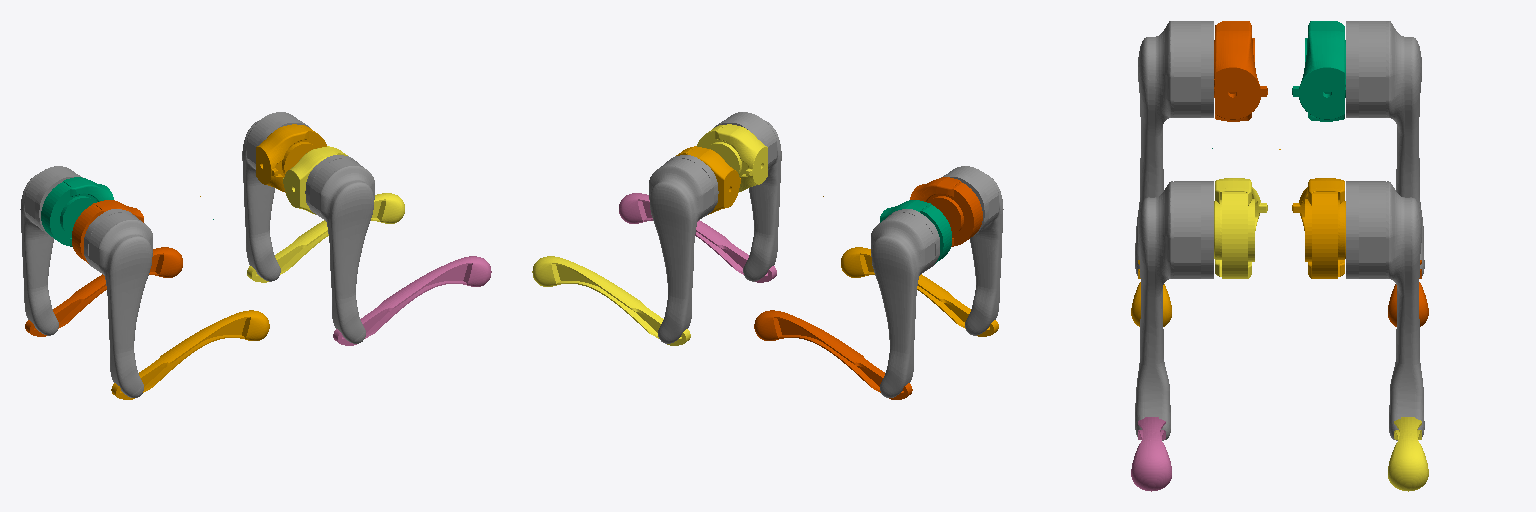
--- Facts derived from the render (not from the file) ---
Views: 3 orthographic renders of the robot side by side, from view 1: azimuth 30°, elevation 25°; view 2: azimuth 150°, elevation 25°; view 3: azimuth 270°, elevation 25°.
Model go1_description with 23 links and 22 joints (12 revolute, 10 fixed), rooted at base, posed joints at zero except 4 at the middle of their limits (FR_calf_joint = -1.81, FL_calf_joint = -1.81, RR_calf_joint = -1.81, RL_calf_joint = -1.81).
Links seen in each view (by area): view 1: FR_thigh, RR_thigh, RL_thigh, FL_thigh, FR_calf, RR_calf, RL_hip, FL_hip, FL_calf, RL_calf, FR_hip, RR_hip; view 2: FL_thigh, RL_thigh, RR_thigh, FR_thigh, FL_calf, RL_calf, RR_hip, FR_hip, FR_calf, RR_calf, FL_hip, RL_hip; view 3: FR_thigh, FL_thigh, RR_thigh, RL_thigh, FR_hip, FL_hip, RR_hip, RL_hip, FR_calf, FL_calf, RR_calf, RL_calf.
Boxes of the visible links, <box> form: FR_thigh: <box>305,155,374,343</box>; RR_thigh: <box>84,209,152,397</box>; RL_thigh: <box>20,166,82,335</box>; FL_thigh: <box>242,112,309,281</box>; FR_calf: <box>333,256,491,345</box>; RR_calf: <box>111,310,269,399</box>; RL_hip: <box>41,177,113,246</box>; FL_hip: <box>256,124,326,192</box>; FL_calf: <box>247,193,404,282</box>; RL_calf: <box>25,247,182,336</box>; FR_hip: <box>283,146,347,214</box>; RR_hip: <box>72,200,143,263</box>; FL_thigh: <box>649,155,718,343</box>; RL_thigh: <box>871,209,939,397</box>; RR_thigh: <box>941,166,1003,335</box>; FR_thigh: <box>714,112,781,281</box>; FL_calf: <box>532,256,690,345</box>; RL_calf: <box>754,310,912,399</box>; RR_hip: <box>910,177,982,246</box>; FR_hip: <box>697,124,767,192</box>; FR_calf: <box>619,193,776,282</box>; RR_calf: <box>841,247,998,336</box>; FL_hip: <box>676,146,740,214</box>; RL_hip: <box>880,200,951,263</box>; FR_thigh: <box>1135,181,1213,440</box>; FL_thigh: <box>1346,181,1424,440</box>; RR_thigh: <box>1135,21,1213,275</box>; RL_thigh: <box>1346,21,1424,275</box>; FR_hip: <box>1214,178,1267,278</box>; FL_hip: <box>1292,178,1345,278</box>; RR_hip: <box>1214,21,1267,121</box>; RL_hip: <box>1292,21,1345,121</box>; FR_calf: <box>1131,417,1171,491</box>; FL_calf: <box>1388,417,1428,491</box>; RR_calf: <box>1131,260,1171,326</box>; RL_calf: <box>1388,260,1428,326</box>.
Bounding box of the posed robot: 0.6536 × 0.294 × 0.2794 m (x, y, z).
Meshes: 5 distinct files referenced, 12 mesh visuals loaded (4 Collada DAE); not drawn: 1 (reference not matched to a file when rendering).

URDF robot description (go1_description):
<?xml version="1.0" ?>
<!-- =================================================================================== -->
<!-- |    This document was autogenerated by xacro from robot.xacro                    | -->
<!-- |    EDITING THIS FILE BY HAND IS NOT RECOMMENDED                                 | -->
<!-- =================================================================================== -->
<robot name="go1_description">
  <material name="black">
    <color rgba="0.0 0.0 0.0 1.0"/>
  </material>
  <material name="blue">
    <color rgba="0.0 0.0 0.8 1.0"/>
  </material>
  <material name="green">
    <color rgba="0.0 0.8 0.0 1.0"/>
  </material>
  <material name="grey">
    <color rgba="0.2 0.2 0.2 1.0"/>
  </material>
  <material name="silver">
    <color rgba="0.9137254901960784 0.9137254901960784 0.8470588235294118 1.0"/>
  </material>
  <material name="orange">
    <color rgba="1.0 0.4235294117647059 0.0392156862745098 1.0"/>
  </material>
  <material name="brown">
    <color rgba="0.8705882352941177 0.8117647058823529 0.7647058823529411 1.0"/>
  </material>
  <material name="red">
    <color rgba="0.8 0.0 0.0 1.0"/>
  </material>
  <material name="white">
    <color rgba="1.0 1.0 1.0 1.0"/>
  </material>
  <!-- ros_control plugin -->
  <gazebo>
    <plugin filename="libgazebo_ros_control.so" name="gazebo_ros_control">
      <robotNamespace>/go1_gazebo</robotNamespace>
      <robotSimType>gazebo_ros_control/DefaultRobotHWSim</robotSimType>
    </plugin>
  </gazebo>
  <!-- Show the trajectory of trunk center. -->
  <gazebo>
    <plugin filename="libLinkPlot3DPlugin.so" name="3dplot">
      <frequency>10</frequency>
      <plot>
        <link>base</link>
        <pose>0 0 0 0 0 0</pose>
        <material>Gazebo/Yellow</material>
      </plot>
    </plugin>
  </gazebo>
  <!-- Show the trajectory of foot. You can add another trajectory about another foot. -->
  <!-- <gazebo>
        <plugin name="3dplot" filename="libLinkPlot3DPlugin.so">
            <frequency>100</frequency>
            <plot>
                <link>FL_foot</link>
                <pose>0 0 0 0 0 0</pose>
                <material>Gazebo/Green</material>
            </plot>
        </plugin>
    </gazebo> -->
  <gazebo>
    <plugin filename="libgazebo_ros_force.so" name="gazebo_ros_force">
      <bodyName>trunk</bodyName>
      <topicName>/apply_force/trunk</topicName>
    </plugin>
  </gazebo>
  <gazebo reference="imu_link">
    <gravity>true</gravity>
    <sensor name="imu_sensor" type="imu">
      <always_on>true</always_on>
      <update_rate>1000</update_rate>
      <visualize>true</visualize>
      <topic>__default_topic__</topic>
      <plugin filename="libgazebo_ros_imu_sensor.so" name="imu_plugin">
        <topicName>trunk_imu</topicName>
        <bodyName>imu_link</bodyName>
        <updateRateHZ>1000.0</updateRateHZ>
        <gaussianNoise>0.0</gaussianNoise>
        <xyzOffset>0 0 0</xyzOffset>
        <rpyOffset>0 0 0</rpyOffset>
        <frameName>imu_link</frameName>
      </plugin>
      <pose>0 0 0 0 0 0</pose>
    </sensor>
  </gazebo>
  <!-- Depth camera -->
  <!-- <gazebo>
        <plugin name="camera_plugin" filename="libgazebo_ros_openni_kinect.so">
            <baseline>0.025</baseline>
            <always_on>true</always_on>
            <updateRate>0.0</updateRate>
            <cameraName>unitree_camera_left</cameraName>
            <frameName>depthCamera_link_left</frameName>
            <imageTopicName>rgb/imageRaw_left</imageTopicName>
            <depthImageTopicName>depth/imageRaw_left</depthImageTopicName>
            <pointCloudTopicName>depth/points_left</pointCloudTopicName>
            <cameraInfoTopicName>rgb/cameraInfo_left</cameraInfoTopicName>              
            <depthImageCameraInfoTopicName>depth/cameraInfo_left</depthImageCameraInfoTopicName>            
            <pointCloudCutoff>0.1</pointCloudCutoff>                
            <pointCloudCutoffMax>1.5</pointCloudCutoffMax>                
            <distortionK1>0.0</distortionK1>
            <distortionK2>0.0</distortionK2>
            <distortionK3>0.0</distortionK3>
            <distortionT1>0.0</distortionT1>
            <distortionT2>0.0</distortionT2>
            <CxPrime>0.0</CxPrime>
            <Cx>0.0045</Cx>
            <Cy>0.0039</Cy>
            <focalLength>0.004</focalLength>
            <hackBaseline>0.0</hackBaseline>
        </plugin>
    </gazebo> -->
  <!-- <gazebo reference="depthCamera_link_left">
        <sensor name="unitree_camera_left" type="depth_camera">
            <update_rate>16</update_rate>
            <always_on>true</always_on>
            <visualize>true</visualize>
            <camera>
                <horizontal_fov>2.094</horizontal_fov>
                <image>
                    <width>928</width>
                    <height>800</height>
                    <format>R8G8B8</format>
                </image>
                <depth_camera></depth_camera>
                <clip>
                    <near>0.1</near>
                    <far>100</far>
                </clip>
            </camera>
            <plugin name="camera_plugin" filename="libgazebo_ros_openni_kinect.so">
                <baseline>0.025</baseline>
                <always_on>true</always_on>
                <updateRate>0.0</updateRate>
                <cameraName>unitree_camera_left</cameraName>
                <frameName>depthCamera_link_left</frameName>
                <imageTopicName>rgb/imageRaw_left</imageTopicName>
                <depthImageTopicName>depth/imageRaw_left</depthImageTopicName>
                <pointCloudTopicName>depth/points_left</pointCloudTopicName>
                <cameraInfoTopicName>rgb/cameraInfo_left</cameraInfoTopicName>              
                <depthImageCameraInfoTopicName>depth/cameraInfo_left</depthImageCameraInfoTopicName>            
                <pointCloudCutoff>0.1</pointCloudCutoff>                
                <pointCloudCutoffMax>1.5</pointCloudCutoffMax>                
                <distortionK1>0.0</distortionK1>
                <distortionK2>0.0</distortionK2>
                <distortionK3>0.0</distortionK3>
                <distortionT1>0.0</distortionT1>
                <distortionT2>0.0</distortionT2>
                <CxPrime>0.0</CxPrime>
                <Cx>0.0045</Cx>
                <Cy>0.0039</Cy>
                <focalLength>0.004</focalLength>
                <hackBaseline>0.0</hackBaseline>
            </plugin>
        </sensor>
    </gazebo> -->
  <gazebo reference="depthCamera_link_left">
    <sensor name="camera_link_camera" type="depth">
      <update_rate>20</update_rate>
      <camera>
        <horizontal_fov>1.047198</horizontal_fov>
        <image>
          <width>640</width>
          <height>480</height>
          <format>R8G8B8</format>
        </image>
        <clip>
          <near>0.05</near>
          <far>3</far>
        </clip>
      </camera>
      <plugin filename="libgazebo_ros_openni_kinect.so" name="camera_link_controller">
        <baseline>0.2</baseline>
        <alwaysOn>true</alwaysOn>
        <updateRate>1.0</updateRate>
        <cameraName>camera_link_ir</cameraName>
        <imageTopicName>/camera_link/color/image_raw</imageTopicName>
        <cameraInfoTopicName>/camera_link/color/camera_info</cameraInfoTopicName>
        <depthImageTopicName>/camera_link/depth/image_raw</depthImageTopicName>
        <depthImageInfoTopicName>/camera_link/depth/camera_info</depthImageInfoTopicName>
        <pointCloudTopicName>/camera_link/depth/points</pointCloudTopicName>
        <frameName>depthCamera_link_left</frameName>
        <pointCloudCutoff>0.5</pointCloudCutoff>
        <pointCloudCutoffMax>3.0</pointCloudCutoffMax>
        <distortionK1>0.00000001</distortionK1>
        <distortionK2>0.00000001</distortionK2>
        <distortionK3>0.00000001</distortionK3>
        <distortionT1>0.00000001</distortionT1>
        <distortionT2>0.00000001</distortionT2>
        <CxPrime>0</CxPrime>
        <Cx>0</Cx>
        <Cy>0</Cy>
        <focalLength>0</focalLength>
        <hackBaseline>0</hackBaseline>
      </plugin>
    </sensor>
  </gazebo>
  <!-- Foot contacts. -->
  <gazebo reference="FR_calf">
    <sensor name="FR_foot_contact" type="contact">
      <update_rate>100</update_rate>
      <plugin filename="libunitreeFootContactPlugin.so" name="contactPlugin"/>
      <contact>
        <collision>FR_calf_fixed_joint_lump__FR_foot_collision_1</collision>
      </contact>
    </sensor>
  </gazebo>
  <gazebo reference="FL_calf">
    <sensor name="FL_foot_contact" type="contact">
      <update_rate>100</update_rate>
      <plugin filename="libunitreeFootContactPlugin.so" name="contactPlugin"/>
      <contact>
        <collision>FL_calf_fixed_joint_lump__FL_foot_collision_1</collision>
      </contact>
    </sensor>
  </gazebo>
  <gazebo reference="RR_calf">
    <sensor name="RR_foot_contact" type="contact">
      <update_rate>100</update_rate>
      <plugin filename="libunitreeFootContactPlugin.so" name="contactPlugin"/>
      <contact>
        <collision>RR_calf_fixed_joint_lump__RR_foot_collision_1</collision>
      </contact>
    </sensor>
  </gazebo>
  <gazebo reference="RL_calf">
    <sensor name="RL_foot_contact" type="contact">
      <update_rate>100</update_rate>
      <plugin filename="libunitreeFootContactPlugin.so" name="contactPlugin"/>
      <contact>
        <collision>RL_calf_fixed_joint_lump__RL_foot_collision_1</collision>
      </contact>
    </sensor>
  </gazebo>
  <!-- Visualization of Foot contacts. -->
  <gazebo reference="FR_foot">
    <visual>
      <plugin filename="libunitreeDrawForcePlugin.so" name="drawForcePlugin">
        <topicName>FR_foot_contact</topicName>
      </plugin>
    </visual>
  </gazebo>
  <gazebo reference="FL_foot">
    <visual>
      <plugin filename="libunitreeDrawForcePlugin.so" name="drawForcePlugin">
        <topicName>FL_foot_contact</topicName>
      </plugin>
    </visual>
  </gazebo>
  <gazebo reference="RR_foot">
    <visual>
      <plugin filename="libunitreeDrawForcePlugin.so" name="drawForcePlugin">
        <topicName>RR_foot_contact</topicName>
      </plugin>
    </visual>
  </gazebo>
  <gazebo reference="RL_foot">
    <visual>
      <plugin filename="libunitreeDrawForcePlugin.so" name="drawForcePlugin">
        <topicName>RL_foot_contact</topicName>
      </plugin>
    </visual>
  </gazebo>
  <gazebo reference="base">
    <material>Gazebo/Green</material>
    <turnGravityOff>false</turnGravityOff>
  </gazebo>
  <gazebo reference="trunk">
    <mu1>0.2</mu1>
    <mu2>0.2</mu2>
    <kp value="1000000.0"/>
    <kd value="1.0"/>
  </gazebo>
  <gazebo reference="stick_link">
    <mu1>0.2</mu1>
    <mu2>0.2</mu2>
    <material>Gazebo/White</material>
  </gazebo>
  <gazebo reference="imu_link">
    <mu1>0.2</mu1>
    <mu2>0.2</mu2>
    <material>Gazebo/Red</material>
  </gazebo>
  <!-- FL leg -->
  <gazebo reference="FL_hip">
    <mu1>0.2</mu1>
    <mu2>0.2</mu2>
    <material>Gazebo/DarkGrey</material>
  </gazebo>
  <gazebo reference="FL_thigh">
    <mu1>0.2</mu1>
    <mu2>0.2</mu2>
    <self_collide>1</self_collide>
    <material>Gazebo/DarkGrey</material>
    <kp value="1000000.0"/>
    <kd value="1.0"/>
  </gazebo>
  <gazebo reference="FL_calf">
    <mu1>0.2</mu1>
    <mu2>0.2</mu2>
    <self_collide>1</self_collide>
  </gazebo>
  <gazebo reference="FL_foot">
    <mu1>0.6</mu1>
    <mu2>0.6</mu2>
    <self_collide>1</self_collide>
    <material>Gazebo/DarkGrey</material>
    <kp value="1000000.0"/>
    <kd value="1.0"/>
  </gazebo>
  <!-- FR leg -->
  <gazebo reference="FR_hip">
    <mu1>0.2</mu1>
    <mu2>0.2</mu2>
    <material>Gazebo/DarkGrey</material>
  </gazebo>
  <gazebo reference="FR_thigh">
    <mu1>0.2</mu1>
    <mu2>0.2</mu2>
    <self_collide>1</self_collide>
    <material>Gazebo/DarkGrey</material>
    <kp value="1000000.0"/>
    <kd value="1.0"/>
  </gazebo>
  <gazebo reference="FR_calf">
    <mu1>0.2</mu1>
    <mu2>0.2</mu2>
    <self_collide>1</self_collide>
  </gazebo>
  <gazebo reference="FR_foot">
    <mu1>0.6</mu1>
    <mu2>0.6</mu2>
    <self_collide>1</self_collide>
    <material>Gazebo/DarkGrey</material>
    <kp value="1000000.0"/>
    <kd value="1.0"/>
  </gazebo>
  <!-- RL leg -->
  <gazebo reference="RL_hip">
    <mu1>0.2</mu1>
    <mu2>0.2</mu2>
    <material>Gazebo/DarkGrey</material>
  </gazebo>
  <gazebo reference="RL_thigh">
    <mu1>0.2</mu1>
    <mu2>0.2</mu2>
    <self_collide>1</self_collide>
    <material>Gazebo/DarkGrey</material>
    <kp value="1000000.0"/>
    <kd value="1.0"/>
  </gazebo>
  <gazebo reference="RL_calf">
    <mu1>0.2</mu1>
    <mu2>0.2</mu2>
    <self_collide>1</self_collide>
  </gazebo>
  <gazebo reference="RL_foot">
    <mu1>0.6</mu1>
    <mu2>0.6</mu2>
    <self_collide>1</self_collide>
    <material>Gazebo/DarkGrey</material>
    <kp value="1000000.0"/>
    <kd value="1.0"/>
  </gazebo>
  <!-- RR leg -->
  <gazebo reference="RR_hip">
    <mu1>0.2</mu1>
    <mu2>0.2</mu2>
    <material>Gazebo/DarkGrey</material>
  </gazebo>
  <gazebo reference="RR_thigh">
    <mu1>0.2</mu1>
    <mu2>0.2</mu2>
    <self_collide>1</self_collide>
    <material>Gazebo/DarkGrey</material>
    <kp value="1000000.0"/>
    <kd value="1.0"/>
  </gazebo>
  <gazebo reference="RR_calf">
    <mu1>0.2</mu1>
    <mu2>0.2</mu2>
    <self_collide>1</self_collide>
  </gazebo>
  <gazebo reference="RR_foot">
    <mu1>0.6</mu1>
    <mu2>0.6</mu2>
    <self_collide>1</self_collide>
    <material>Gazebo/DarkGrey</material>
    <kp value="1000000.0"/>
    <kd value="1.0"/>
  </gazebo>
  <!-- <xacro:include filename="$(find go1_gazebo)/launch/stairs.urdf.xacro"/> -->
  <!-- <xacro:stairs stairs="15" xpos="0" ypos="0" zpos="0" /> -->
  <!-- Debug mode will hung up the robot, use "true" or "false" to switch it. -->
  <!-- <xacro:if value="$(arg DEBUG)">
    <link name="world"/>
    <joint name="base_static_joint" type="fixed">
      <origin rpy="0 0 0" xyz="0 0 0"/>
      <parent link="world"/>
      <child link="base"/>
    </joint>
  </xacro:if>  -->
  <link name="base">
    <visual>
      <origin rpy="0 0 0" xyz="0 0 0"/>
      <geometry>
        <box size="0.001 0.001 0.001"/>
      </geometry>
    </visual>
  </link>
  <joint name="floating_base" type="fixed">
    <origin rpy="0 0 0" xyz="0 0 0"/>
    <parent link="base"/>
    <child link="trunk"/>
  </joint>
  <link name="trunk">
    <visual>
      <origin rpy="0 0 0" xyz="0 0 0"/>
      <geometry>
        <mesh filename="../meshes/trunk.dae" scale="1 1 1"/>
      </geometry>
      <!-- <material name="orange"/> -->
    </visual>
    <collision>
      <origin rpy="0 0 0" xyz="0 0 0"/>
      <geometry>
        <box size="0.3762 0.0935 0.114"/>
      </geometry>
    </collision>
    <inertial>
      <origin rpy="0 0 0" xyz="0.011611 0.004437 0.000108"/>
      <mass value="4.8"/>
      <inertia ixx="0.016130741919" ixy="0.000593180607" ixz="7.324662e-06" iyy="0.036507810812" iyz="2.0969537e-05" izz="0.044693872053"/>
    </inertial>
  </link>
  <joint name="imu_joint" type="fixed">
    <parent link="trunk"/>
    <child link="imu_link"/>
    <origin rpy="0 0 0" xyz="-0.01592 -0.06659 -0.00617"/>
  </joint>
  <link name="imu_link">
    <inertial>
      <mass value="0.001"/>
      <origin rpy="0 0 0" xyz="0 0 0"/>
      <inertia ixx="0.0001" ixy="0" ixz="0" iyy="0.0001" iyz="0" izz="0.0001"/>
    </inertial>
    <visual>
      <origin rpy="0 0 0" xyz="0 0 0"/>
      <geometry>
        <box size="0.001 0.001 0.001"/>
      </geometry>
      <!-- <material name="red"/> -->
    </visual>
    <collision>
      <origin rpy="0 0 0" xyz="0 0 0"/>
      <geometry>
        <box size=".001 .001 .001"/>
      </geometry>
    </collision>
  </link>
  <joint name="FR_hip_joint" type="revolute">
    <origin rpy="0 0 0" xyz="0.1881 -0.04675 0"/>
    <parent link="trunk"/>
    <child link="FR_hip"/>
    <axis xyz="1 0 0"/>
    <dynamics damping="0" friction="0"/>
    <limit effort="33.5" lower="-0.8028514559173915" upper="0.8028514559173915" velocity="21"/>
  </joint>
  <link name="FR_hip">
    <visual>
      <origin rpy="3.141592653589793 0 0" xyz="0 0 0"/>
      <geometry>
        <mesh filename="../meshes/hip.dae" scale="1 1 1"/>
      </geometry>
      <!-- <material name="orange"/> -->
    </visual>
    <!-- <collision>
      <origin rpy="1.5707963267948966 0 0" xyz="0 0 0"/>
      <geometry>
        <cylinder length="0.04" radius="0.046"/>
      </geometry>
    </collision> -->
    <inertial>
      <origin rpy="0 0 0" xyz="-0.00541 0.00074 6e-06"/>
      <mass value="0.510299"/>
      <inertia ixx="0.00030528937" ixy="7.788013e-06" ixz="2.2016e-07" iyy="0.000590894859" iyz="1.7175e-08" izz="0.000396594572"/>
    </inertial>
  </link>
  <joint name="FR_hip_fixed" type="fixed">
    <origin rpy="0 0 0" xyz="0 -0.08 0"/>
    <parent link="FR_hip"/>
    <child link="FR_thigh_shoulder"/>
  </joint>
  <!-- this link is only for collision -->
  <link name="FR_thigh_shoulder">
    <!-- <collision>
      <origin rpy="1.5707963267948966 0 0" xyz="0 0 0"/>
      <geometry>
        <cylinder length="0.032" radius="0.041"/>
      </geometry>
    </collision> -->
  </link>
  <joint name="FR_thigh_joint" type="revolute">
    <origin rpy="0 0 0" xyz="0 -0.08 0"/>
    <parent link="FR_hip"/>
    <child link="FR_thigh"/>
    <axis xyz="0 1 0"/>
    <dynamics damping="0" friction="0"/>
    <limit effort="33.5" lower="-1.0471975511965976" upper="4.1887902047863905" velocity="21"/>
  </joint>
  <link name="FR_thigh">
    <visual>
      <origin rpy="0 0 0" xyz="0 0 0"/>
      <geometry>
        <mesh filename="../meshes/thigh_mirror.dae" scale="1 1 1"/>
      </geometry>
      <!-- <material name="orange"/> -->
    </visual>
    <collision>
      <origin rpy="0 1.5707963267948966 0" xyz="0 0 -0.1065"/>
      <geometry>
        <box size="0.213 0.0245 0.034"/>
      </geometry>
    </collision>
    <inertial>
      <origin rpy="0 0 0" xyz="-0.003468 0.018947 -0.032736"/>
      <mass value="0.898919"/>
      <inertia ixx="0.005395867678" ixy="-1.02809e-07" ixz="0.000337529085" iyy="0.005142451046" iyz="5.816563e-06" izz="0.00102478732"/>
    </inertial>
  </link>
  <joint name="FR_calf_joint" type="revolute">
    <origin rpy="0 0 0" xyz="0 0 -0.213"/>
    <parent link="FR_thigh"/>
    <child link="FR_calf"/>
    <axis xyz="0 1 0"/>
    <dynamics damping="0" friction="0"/>
    <limit effort="33.5" lower="-2.6965336943312392" upper="-0.9162978572970231" velocity="21"/>
  </joint>
  <link name="FR_calf">
    <visual>
      <origin rpy="0 0 0" xyz="0 0 0"/>
      <geometry>
        <mesh filename="../meshes/calf.dae" scale="1 1 1"/>
      </geometry>
      <!-- <material name="orange"/> -->
    </visual>
    <collision>
      <origin rpy="0 1.5707963267948966 0" xyz="0 0 -0.1065"/>
      <geometry>
        <box size="0.213 0.016 0.016"/>
      </geometry>
    </collision>
    <inertial>
      <origin rpy="0 0 0" xyz="0.006286 0.001307 -0.122269"/>
      <mass value="0.158015"/>
      <inertia ixx="0.003607648222" ixy="1.494971e-06" ixz="-0.000132778525" iyy="0.003626771492" iyz="-2.8638535e-05" izz="3.5148003e-05"/>
    </inertial>
  </link>
  <joint name="FR_foot_fixed" type="fixed">
    <origin rpy="0 0 0" xyz="0 0 -0.213"/>
    <parent link="FR_calf"/>
    <child link="FR_foot"/>
  </joint>
  <link name="FR_foot">
    <visual>
      <origin rpy="0 0 0" xyz="0 0 0"/>
      <geometry>
        <sphere radius="0.01"/>
      </geometry>
      <!-- <material name="orange"/> -->
    </visual>
    <collision>
      <origin rpy="0 0 0" xyz="0 0 0"/>
      <geometry>
        <sphere radius="0.02"/>
      </geometry>
    </collision>
    <inertial>
      <mass value="0.06"/>
      <inertia ixx="9.600000000000001e-06" ixy="0.0" ixz="0.0" iyy="9.600000000000001e-06" iyz="0.0" izz="9.600000000000001e-06"/>
    </inertial>
  </link>
  <transmission name="FR_hip_tran">
    <type>transmission_interface/SimpleTransmission</type>
    <joint name="FR_hip_joint">
      <hardwareInterface>hardware_interface/EffortJointInterface</hardwareInterface>
    </joint>
    <actuator name="FR_hip_motor">
      <hardwareInterface>hardware_interface/EffortJointInterface</hardwareInterface>
      <mechanicalReduction>1</mechanicalReduction>
    </actuator>
  </transmission>
  <transmission name="FR_thigh_tran">
    <type>transmission_interface/SimpleTransmission</type>
    <joint name="FR_thigh_joint">
      <hardwareInterface>hardware_interface/EffortJointInterface</hardwareInterface>
    </joint>
    <actuator name="FR_thigh_motor">
      <hardwareInterface>hardware_interface/EffortJointInterface</hardwareInterface>
      <mechanicalReduction>1</mechanicalReduction>
    </actuator>
  </transmission>
  <transmission name="FR_calf_tran">
    <type>transmission_interface/SimpleTransmission</type>
    <joint name="FR_calf_joint">
      <hardwareInterface>hardware_interface/EffortJointInterface</hardwareInterface>
    </joint>
    <actuator name="FR_calf_motor">
      <hardwareInterface>hardware_interface/EffortJointInterface</hardwareInterface>
      <mechanicalReduction>1</mechanicalReduction>
    </actuator>
  </transmission>
  <joint name="FL_hip_joint" type="revolute">
    <origin rpy="0 0 0" xyz="0.1881 0.04675 0"/>
    <parent link="trunk"/>
    <child link="FL_hip"/>
    <axis xyz="1 0 0"/>
    <dynamics damping="0" friction="0"/>
    <limit effort="33.5" lower="-0.8028514559173915" upper="0.8028514559173915" velocity="21"/>
  </joint>
  <link name="FL_hip">
    <visual>
      <origin rpy="0 0 0" xyz="0 0 0"/>
      <geometry>
        <mesh filename="../meshes/hip.dae" scale="1 1 1"/>
      </geometry>
      <!-- <material name="orange"/> -->
    </visual>
    <!-- <collision>
      <origin rpy="1.5707963267948966 0 0" xyz="0 0 0"/>
      <geometry>
        <cylinder length="0.04" radius="0.046"/>
      </geometry>
    </collision> -->
    <inertial>
      <origin rpy="0 0 0" xyz="-0.00541 -0.00074 6e-06"/>
      <mass value="0.510299"/>
      <inertia ixx="0.00030528937" ixy="-7.788013e-06" ixz="2.2016e-07" iyy="0.000590894859" iyz="-1.7175e-08" izz="0.000396594572"/>
    </inertial>
  </link>
  <joint name="FL_hip_fixed" type="fixed">
    <origin rpy="0 0 0" xyz="0 0.08 0"/>
    <parent link="FL_hip"/>
    <child link="FL_thigh_shoulder"/>
  </joint>
  <!-- this link is only for collision -->
  <link name="FL_thigh_shoulder">
    <!-- <collision>
      <origin rpy="1.5707963267948966 0 0" xyz="0 0 0"/>
      <geometry>
        <cylinder length="0.032" radius="0.041"/>
      </geometry>
    </collision> -->
  </link>
  <joint name="FL_thigh_joint" type="revolute">
    <origin rpy="0 0 0" xyz="0 0.08 0"/>
    <parent link="FL_hip"/>
    <child link="FL_thigh"/>
    <axis xyz="0 1 0"/>
    <dynamics damping="0" friction="0"/>
    <limit effort="33.5" lower="-1.0471975511965976" upper="4.1887902047863905" velocity="21"/>
  </joint>
  <link name="FL_thigh">
    <visual>
      <origin rpy="0 0 0" xyz="0 0 0"/>
      <geometry>
        <mesh filename="../meshes/thigh.dae" scale="1 1 1"/>
      </geometry>
      <!-- <material name="orange"/> -->
    </visual>
    <collision>
      <origin rpy="0 1.5707963267948966 0" xyz="0 0 -0.1065"/>
      <geometry>
        <box size="0.213 0.0245 0.034"/>
      </geometry>
    </collision>
    <inertial>
      <origin rpy="0 0 0" xyz="-0.003468 -0.018947 -0.032736"/>
      <mass value="0.898919"/>
      <inertia ixx="0.005395867678" ixy="1.02809e-07" ixz="0.000337529085" iyy="0.005142451046" iyz="-5.816563e-06" izz="0.00102478732"/>
    </inertial>
  </link>
  <joint name="FL_calf_joint" type="revolute">
    <origin rpy="0 0 0" xyz="0 0 -0.213"/>
    <parent link="FL_thigh"/>
    <child link="FL_calf"/>
    <axis xyz="0 1 0"/>
    <dynamics damping="0" friction="0"/>
    <limit effort="33.5" lower="-2.6965336943312392" upper="-0.9162978572970231" velocity="21"/>
  </joint>
  <link name="FL_calf">
    <visual>
      <origin rpy="0 0 0" xyz="0 0 0"/>
      <geometry>
        <mesh filename="../meshes/calf.dae" scale="1 1 1"/>
      </geometry>
      <!-- <material name="orange"/> -->
    </visual>
    <collision>
      <origin rpy="0 1.5707963267948966 0" xyz="0 0 -0.1065"/>
      <geometry>
        <box size="0.213 0.016 0.016"/>
      </geometry>
    </collision>
    <inertial>
      <origin rpy="0 0 0" xyz="0.006286 0.001307 -0.122269"/>
      <mass value="0.158015"/>
      <inertia ixx="0.003607648222" ixy="1.494971e-06" ixz="-0.000132778525" iyy="0.003626771492" iyz="-2.8638535e-05" izz="3.5148003e-05"/>
    </inertial>
  </link>
  <joint name="FL_foot_fixed" type="fixed">
    <origin rpy="0 0 0" xyz="0 0 -0.213"/>
    <parent link="FL_calf"/>
    <child link="FL_foot"/>
  </joint>
  <link name="FL_foot">
    <visual>
      <origin rpy="0 0 0" xyz="0 0 0"/>
      <geometry>
        <sphere radius="0.01"/>
      </geometry>
      <!-- <material name="orange"/> -->
    </visual>
    <collision>
      <origin rpy="0 0 0" xyz="0 0 0"/>
      <geometry>
        <sphere radius="0.02"/>
      </geometry>
    </collision>
    <inertial>
      <mass value="0.06"/>
      <inertia ixx="9.600000000000001e-06" ixy="0.0" ixz="0.0" iyy="9.600000000000001e-06" iyz="0.0" izz="9.600000000000001e-06"/>
    </inertial>
  </link>
  <transmission name="FL_hip_tran">
    <type>transmission_interface/SimpleTransmission</type>
    <joint name="FL_hip_joint">
      <hardwareInterface>hardware_interface/EffortJointInterface</hardwareInterface>
    </joint>
    <actuator name="FL_hip_motor">
      <hardwareInterface>hardware_interface/EffortJointInterface</hardwareInterface>
      <mechanicalReduction>1</mechanicalReduction>
    </actuator>
  </transmission>
  <transmission name="FL_thigh_tran">
    <type>transmission_interface/SimpleTransmission</type>
    <joint name="FL_thigh_joint">
      <hardwareInterface>hardware_interface/EffortJointInterface</hardwareInterface>
    </joint>
    <actuator name="FL_thigh_motor">
      <hardwareInterface>hardware_interface/EffortJointInterface</hardwareInterface>
      <mechanicalReduction>1</mechanicalReduction>
    </actuator>
  </transmission>
  <transmission name="FL_calf_tran">
    <type>transmission_interface/SimpleTransmission</type>
    <joint name="FL_calf_joint">
      <hardwareInterface>hardware_interface/EffortJointInterface</hardwareInterface>
    </joint>
    <actuator name="FL_calf_motor">
      <hardwareInterface>hardware_interface/EffortJointInterface</hardwareInterface>
      <mechanicalReduction>1</mechanicalReduction>
    </actuator>
  </transmission>
  <joint name="RR_hip_joint" type="revolute">
    <origin rpy="0 0 0" xyz="-0.1881 -0.04675 0"/>
    <parent link="trunk"/>
    <child link="RR_hip"/>
    <axis xyz="1 0 0"/>
    <dynamics damping="0" friction="0"/>
    <limit effort="33.5" lower="-0.8028514559173915" upper="0.8028514559173915" velocity="21"/>
  </joint>
  <link name="RR_hip">
    <visual>
      <origin rpy="3.141592653589793 3.141592653589793 0" xyz="0 0 0"/>
      <geometry>
        <mesh filename="../meshes/hip.dae" scale="1 1 1"/>
      </geometry>
      <!-- <material name="orange"/> -->
    </visual>
    <!-- <collision>
      <origin rpy="1.5707963267948966 0 0" xyz="0 0 0"/>
      <geometry>
        <cylinder length="0.04" radius="0.046"/>
      </geometry>
    </collision> -->
    <inertial>
      <origin rpy="0 0 0" xyz="0.00541 0.00074 6e-06"/>
      <mass value="0.510299"/>
      <inertia ixx="0.00030528937" ixy="-7.788013e-06" ixz="-2.2016e-07" iyy="0.000590894859" iyz="1.7175e-08" izz="0.000396594572"/>
    </inertial>
  </link>
  <joint name="RR_hip_fixed" type="fixed">
    <origin rpy="0 0 0" xyz="0 -0.08 0"/>
    <parent link="RR_hip"/>
    <child link="RR_thigh_shoulder"/>
  </joint>
  <!-- this link is only for collision -->
  <link name="RR_thigh_shoulder">
    <!-- <collision>
      <origin rpy="1.5707963267948966 0 0" xyz="0 0 0"/>
      <geometry>
        <cylinder length="0.032" radius="0.041"/>
      </geometry>
    </collision> -->
  </link>
  <joint name="RR_thigh_joint" type="revolute">
    <origin rpy="0 0 0" xyz="0 -0.08 0"/>
    <parent link="RR_hip"/>
    <child link="RR_thigh"/>
    <axis xyz="0 1 0"/>
    <dynamics damping="0" friction="0"/>
    <limit effort="33.5" lower="-1.0471975511965976" upper="4.1887902047863905" velocity="21"/>
  </joint>
  <link name="RR_thigh">
    <visual>
      <origin rpy="0 0 0" xyz="0 0 0"/>
      <geometry>
        <mesh filename="../meshes/thigh_mirror.dae" scale="1 1 1"/>
      </geometry>
      <!-- <material name="orange"/> -->
    </visual>
    <collision>
      <origin rpy="0 1.5707963267948966 0" xyz="0 0 -0.1065"/>
      <geometry>
        <box size="0.213 0.0245 0.034"/>
      </geometry>
    </collision>
    <inertial>
      <origin rpy="0 0 0" xyz="-0.003468 0.018947 -0.032736"/>
      <mass value="0.898919"/>
      <inertia ixx="0.005395867678" ixy="-1.02809e-07" ixz="0.000337529085" iyy="0.005142451046" iyz="5.816563e-06" izz="0.00102478732"/>
    </inertial>
  </link>
  <joint name="RR_calf_joint" type="revolute">
    <origin rpy="0 0 0" xyz="0 0 -0.213"/>
    <parent link="RR_thigh"/>
    <child link="RR_calf"/>
    <axis xyz="0 1 0"/>
    <dynamics damping="0" friction="0"/>
    <limit effort="33.5" lower="-2.6965336943312392" upper="-0.9162978572970231" velocity="21"/>
  </joint>
  <link name="RR_calf">
    <visual>
      <origin rpy="0 0 0" xyz="0 0 0"/>
      <geometry>
        <mesh filename="../meshes/calf.dae" scale="1 1 1"/>
      </geometry>
      <!-- <material name="orange"/> -->
    </visual>
    <collision>
      <origin rpy="0 1.5707963267948966 0" xyz="0 0 -0.1065"/>
      <geometry>
        <box size="0.213 0.016 0.016"/>
      </geometry>
    </collision>
    <inertial>
      <origin rpy="0 0 0" xyz="0.006286 0.001307 -0.122269"/>
      <mass value="0.158015"/>
      <inertia ixx="0.003607648222" ixy="1.494971e-06" ixz="-0.000132778525" iyy="0.003626771492" iyz="-2.8638535e-05" izz="3.5148003e-05"/>
    </inertial>
  </link>
  <joint name="RR_foot_fixed" type="fixed">
    <origin rpy="0 0 0" xyz="0 0 -0.213"/>
    <parent link="RR_calf"/>
    <child link="RR_foot"/>
  </joint>
  <link name="RR_foot">
    <visual>
      <origin rpy="0 0 0" xyz="0 0 0"/>
      <geometry>
        <sphere radius="0.01"/>
      </geometry>
      <!-- <material name="orange"/> -->
    </visual>
    <collision>
      <origin rpy="0 0 0" xyz="0 0 0"/>
      <geometry>
        <sphere radius="0.02"/>
      </geometry>
    </collision>
    <inertial>
      <mass value="0.06"/>
      <inertia ixx="9.600000000000001e-06" ixy="0.0" ixz="0.0" iyy="9.600000000000001e-06" iyz="0.0" izz="9.600000000000001e-06"/>
    </inertial>
  </link>
  <transmission name="RR_hip_tran">
    <type>transmission_interface/SimpleTransmission</type>
    <joint name="RR_hip_joint">
      <hardwareInterface>hardware_interface/EffortJointInterface</hardwareInterface>
    </joint>
    <actuator name="RR_hip_motor">
      <hardwareInterface>hardware_interface/EffortJointInterface</hardwareInterface>
      <mechanicalReduction>1</mechanicalReduction>
    </actuator>
  </transmission>
  <transmission name="RR_thigh_tran">
    <type>transmission_interface/SimpleTransmission</type>
    <joint name="RR_thigh_joint">
      <hardwareInterface>hardware_interface/EffortJointInterface</hardwareInterface>
    </joint>
    <actuator name="RR_thigh_motor">
      <hardwareInterface>hardware_interface/EffortJointInterface</hardwareInterface>
      <mechanicalReduction>1</mechanicalReduction>
    </actuator>
  </transmission>
  <transmission name="RR_calf_tran">
    <type>transmission_interface/SimpleTransmission</type>
    <joint name="RR_calf_joint">
      <hardwareInterface>hardware_interface/EffortJointInterface</hardwareInterface>
    </joint>
    <actuator name="RR_calf_motor">
      <hardwareInterface>hardware_interface/EffortJointInterface</hardwareInterface>
      <mechanicalReduction>1</mechanicalReduction>
    </actuator>
  </transmission>
  <joint name="RL_hip_joint" type="revolute">
    <origin rpy="0 0 0" xyz="-0.1881 0.04675 0"/>
    <parent link="trunk"/>
    <child link="RL_hip"/>
    <axis xyz="1 0 0"/>
    <dynamics damping="0" friction="0"/>
    <limit effort="33.5" lower="-0.8028514559173915" upper="0.8028514559173915" velocity="21"/>
  </joint>
  <link name="RL_hip">
    <visual>
      <origin rpy="0 3.141592653589793 0" xyz="0 0 0"/>
      <geometry>
        <mesh filename="../meshes/hip.dae" scale="1 1 1"/>
      </geometry>
      <!-- <material name="orange"/> -->
    </visual>
    <!-- <collision>
      <origin rpy="1.5707963267948966 0 0" xyz="0 0 0"/>
      <geometry>
        <cylinder length="0.04" radius="0.046"/>
      </geometry>
    </collision> -->
    <inertial>
      <origin rpy="0 0 0" xyz="0.00541 -0.00074 6e-06"/>
      <mass value="0.510299"/>
      <inertia ixx="0.00030528937" ixy="7.788013e-06" ixz="-2.2016e-07" iyy="0.000590894859" iyz="-1.7175e-08" izz="0.000396594572"/>
    </inertial>
  </link>
  <joint name="RL_hip_fixed" type="fixed">
    <origin rpy="0 0 0" xyz="0 0.08 0"/>
    <parent link="RL_hip"/>
    <child link="RL_thigh_shoulder"/>
  </joint>
  <!-- this link is only for collision -->
  <link name="RL_thigh_shoulder">
    <!-- <collision>
      <origin rpy="1.5707963267948966 0 0" xyz="0 0 0"/>
      <geometry>
        <cylinder length="0.032" radius="0.041"/>
      </geometry>
    </collision> -->
  </link>
  <joint name="RL_thigh_joint" type="revolute">
    <origin rpy="0 0 0" xyz="0 0.08 0"/>
    <parent link="RL_hip"/>
    <child link="RL_thigh"/>
    <axis xyz="0 1 0"/>
    <dynamics damping="0" friction="0"/>
    <limit effort="33.5" lower="-1.0471975511965976" upper="4.1887902047863905" velocity="21"/>
  </joint>
  <link name="RL_thigh">
    <visual>
      <origin rpy="0 0 0" xyz="0 0 0"/>
      <geometry>
        <mesh filename="../meshes/thigh.dae" scale="1 1 1"/>
      </geometry>
      <!-- <material name="orange"/> -->
    </visual>
    <collision>
      <origin rpy="0 1.5707963267948966 0" xyz="0 0 -0.1065"/>
      <geometry>
        <box size="0.213 0.0245 0.034"/>
      </geometry>
    </collision>
    <inertial>
      <origin rpy="0 0 0" xyz="-0.003468 -0.018947 -0.032736"/>
      <mass value="0.898919"/>
      <inertia ixx="0.005395867678" ixy="1.02809e-07" ixz="0.000337529085" iyy="0.005142451046" iyz="-5.816563e-06" izz="0.00102478732"/>
    </inertial>
  </link>
  <joint name="RL_calf_joint" type="revolute">
    <origin rpy="0 0 0" xyz="0 0 -0.213"/>
    <parent link="RL_thigh"/>
    <child link="RL_calf"/>
    <axis xyz="0 1 0"/>
    <dynamics damping="0" friction="0"/>
    <limit effort="33.5" lower="-2.6965336943312392" upper="-0.9162978572970231" velocity="21"/>
  </joint>
  <link name="RL_calf">
    <visual>
      <origin rpy="0 0 0" xyz="0 0 0"/>
      <geometry>
        <mesh filename="../meshes/calf.dae" scale="1 1 1"/>
      </geometry>
      <!-- <material name="orange"/> -->
    </visual>
    <collision>
      <origin rpy="0 1.5707963267948966 0" xyz="0 0 -0.1065"/>
      <geometry>
        <box size="0.213 0.016 0.016"/>
      </geometry>
    </collision>
    <inertial>
      <origin rpy="0 0 0" xyz="0.006286 0.001307 -0.122269"/>
      <mass value="0.158015"/>
      <inertia ixx="0.003607648222" ixy="1.494971e-06" ixz="-0.000132778525" iyy="0.003626771492" iyz="-2.8638535e-05" izz="3.5148003e-05"/>
    </inertial>
  </link>
  <joint name="RL_foot_fixed" type="fixed">
    <origin rpy="0 0 0" xyz="0 0 -0.213"/>
    <parent link="RL_calf"/>
    <child link="RL_foot"/>
  </joint>
  <link name="RL_foot">
    <visual>
      <origin rpy="0 0 0" xyz="0 0 0"/>
      <geometry>
        <sphere radius="0.01"/>
      </geometry>
      <!-- <material name="orange"/> -->
    </visual>
    <collision>
      <origin rpy="0 0 0" xyz="0 0 0"/>
      <geometry>
        <sphere radius="0.02"/>
      </geometry>
    </collision>
    <inertial>
      <mass value="0.06"/>
      <inertia ixx="9.600000000000001e-06" ixy="0.0" ixz="0.0" iyy="9.600000000000001e-06" iyz="0.0" izz="9.600000000000001e-06"/>
    </inertial>
  </link>
  <transmission name="RL_hip_tran">
    <type>transmission_interface/SimpleTransmission</type>
    <joint name="RL_hip_joint">
      <hardwareInterface>hardware_interface/EffortJointInterface</hardwareInterface>
    </joint>
    <actuator name="RL_hip_motor">
      <hardwareInterface>hardware_interface/EffortJointInterface</hardwareInterface>
      <mechanicalReduction>1</mechanicalReduction>
    </actuator>
  </transmission>
  <transmission name="RL_thigh_tran">
    <type>transmission_interface/SimpleTransmission</type>
    <joint name="RL_thigh_joint">
      <hardwareInterface>hardware_interface/EffortJointInterface</hardwareInterface>
    </joint>
    <actuator name="RL_thigh_motor">
      <hardwareInterface>hardware_interface/EffortJointInterface</hardwareInterface>
      <mechanicalReduction>1</mechanicalReduction>
    </actuator>
  </transmission>
  <transmission name="RL_calf_tran">
    <type>transmission_interface/SimpleTransmission</type>
    <joint name="RL_calf_joint">
      <hardwareInterface>hardware_interface/EffortJointInterface</hardwareInterface>
    </joint>
    <actuator name="RL_calf_motor">
      <hardwareInterface>hardware_interface/EffortJointInterface</hardwareInterface>
      <mechanicalReduction>1</mechanicalReduction>
    </actuator>
  </transmission>

</robot>
